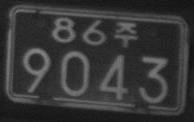0: (60, 50, 91, 97)
3: (139, 55, 169, 104)
4: (99, 54, 129, 100)
6: (81, 19, 106, 46)
8: (51, 16, 76, 44)
9: (22, 46, 51, 92)
주: (114, 20, 138, 48)
